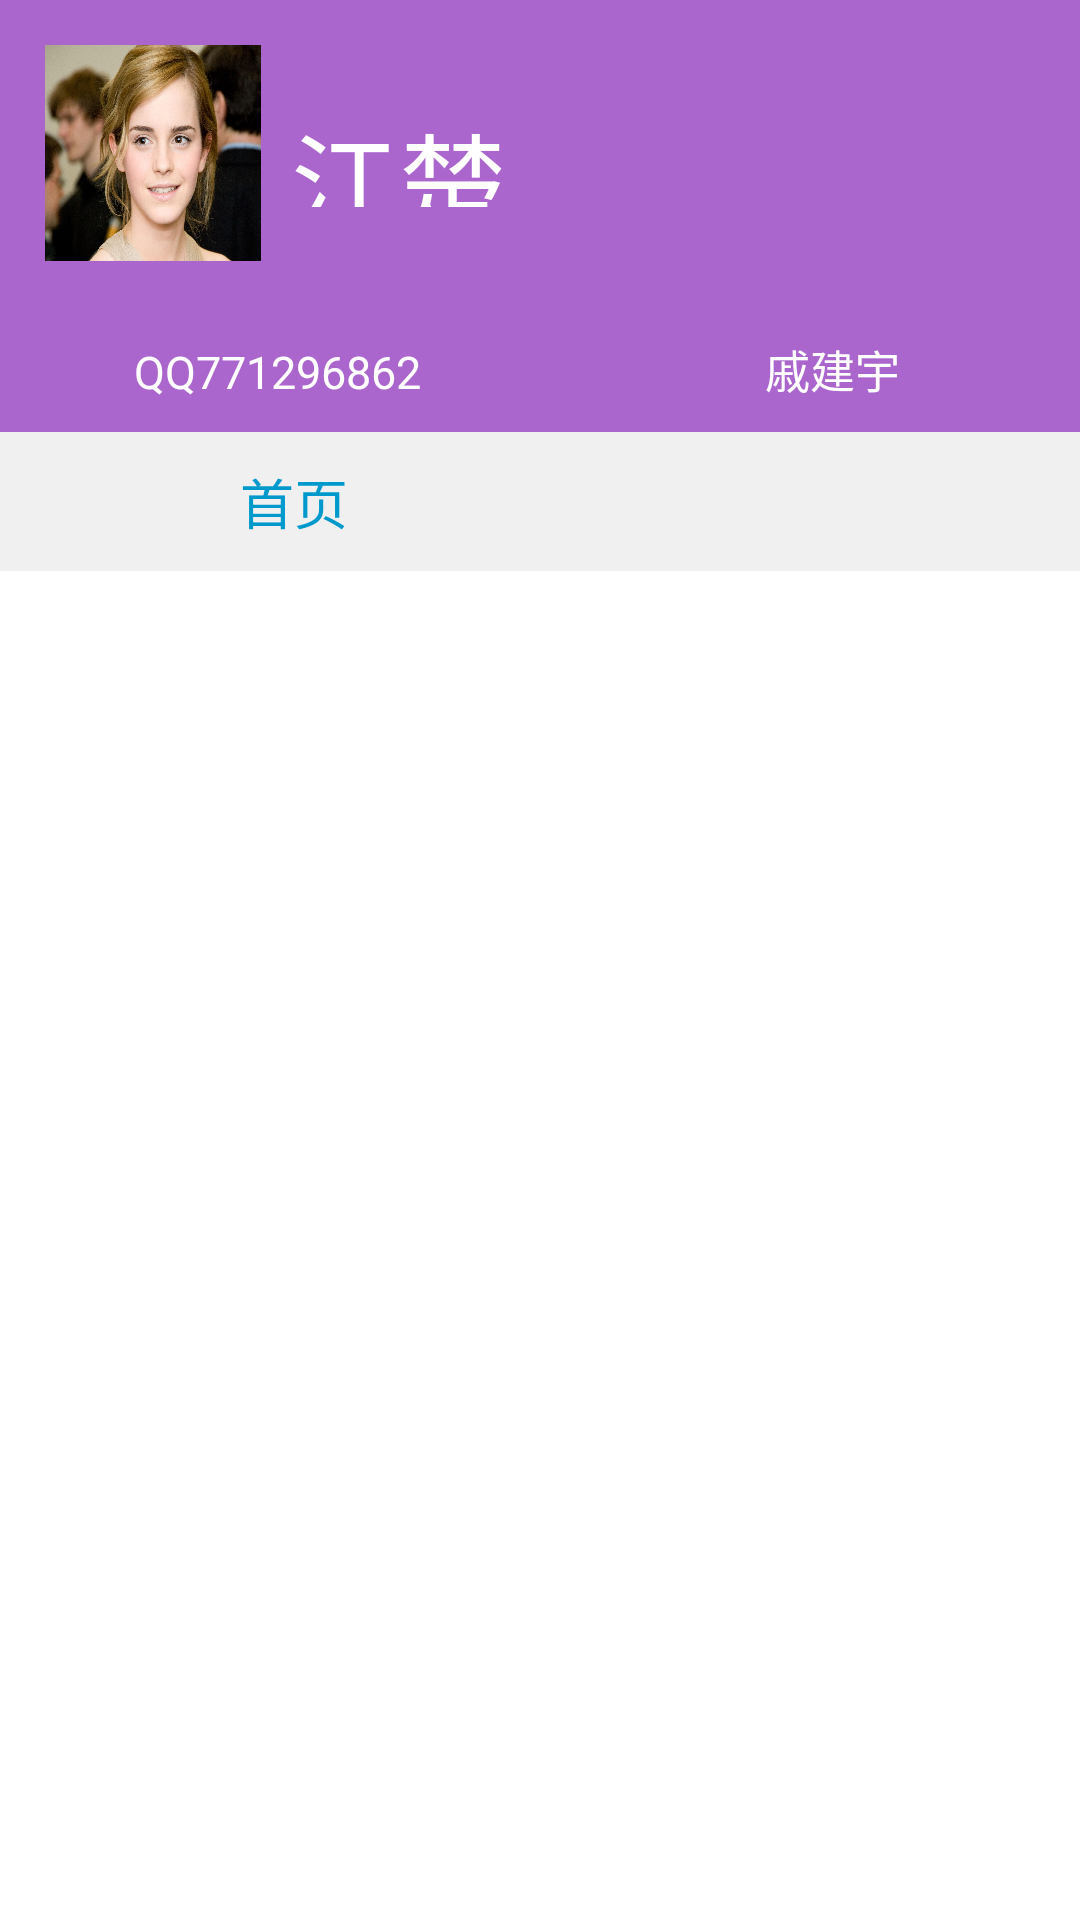

Locate icon controls on the screen. Image size 1080px×1920px, boxes as (x1, y1, x2, y2).
account circle: (45, 45, 261, 261)
